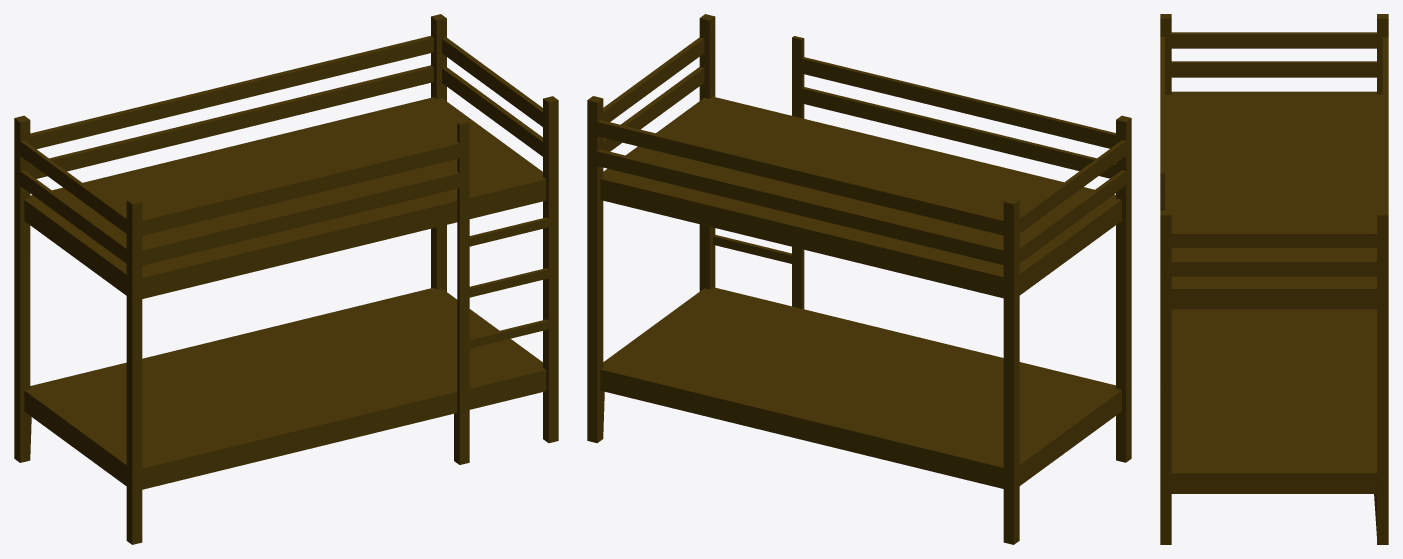
3 views of the same model, side by side, from view 1: azimuth 30°, elevation 25°; view 2: azimuth 150°, elevation 25°; view 3: azimuth 270°, elevation 25° (orthographic). The views are drawn at different scales.
Parts seen in each view (by area): view 1: Object_2; view 2: Object_2; view 3: Object_2.
Part boxes in pixels (<box>): Object_2: <box>14,14,558,544</box>; Object_2: <box>587,14,1131,544</box>; Object_2: <box>1160,14,1388,544</box>.
Size of the model in its own units: 211 by 161 by 101.
1 material, 1 textured.
